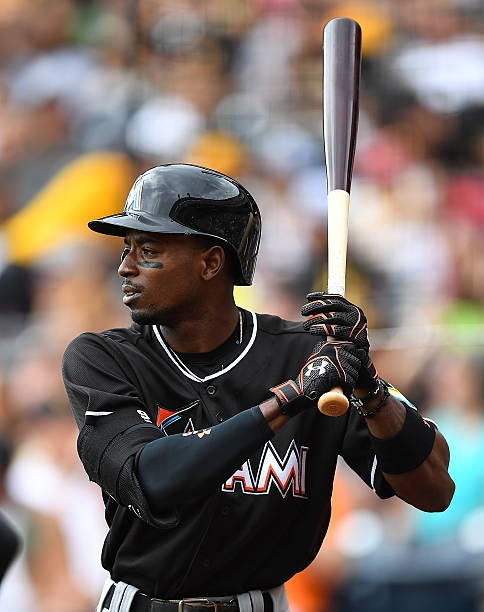bita: (312, 18, 365, 410)
